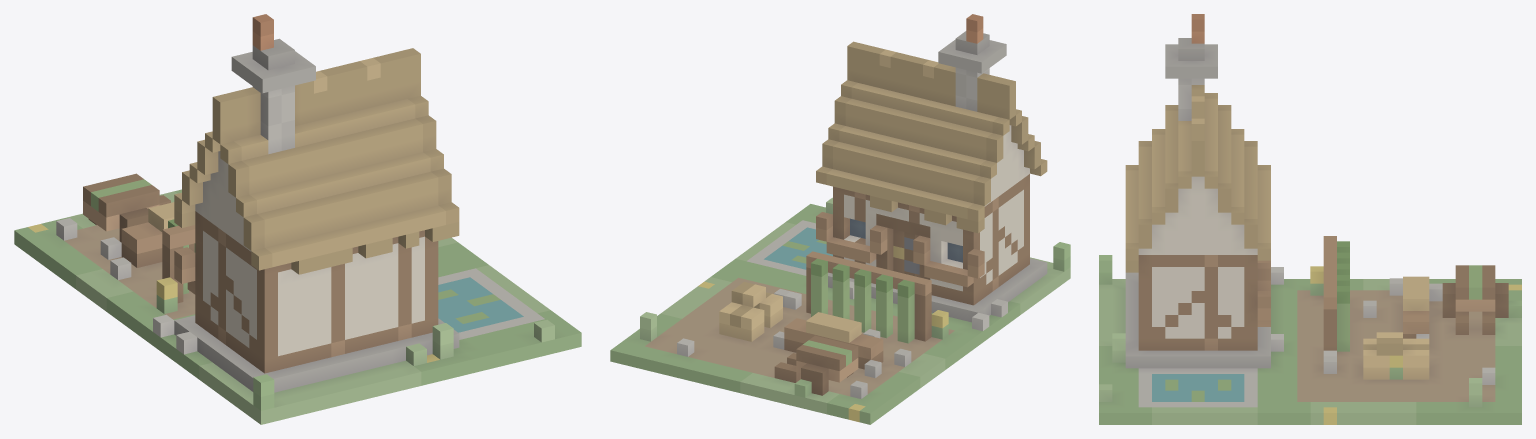
The model's file is hemp_farm.glb.
The picture shows the model from 3 angles, left to right: view 1: azimuth 30°, elevation 25°; view 2: azimuth 150°, elevation 25°; view 3: azimuth 270°, elevation 25°; orthographic projection. The views are drawn at different scales.
Visible parts, largest first — view 1: hemp_farm; view 2: hemp_farm; view 3: hemp_farm.
Boxes of the visible parts, box(x1,y1,x2,y2) form: hemp_farm: box(14, 14, 581, 424); hemp_farm: box(610, 14, 1070, 424); hemp_farm: box(1099, 14, 1521, 424).
Size of the model in its own units: 3 by 3.12 by 4.
